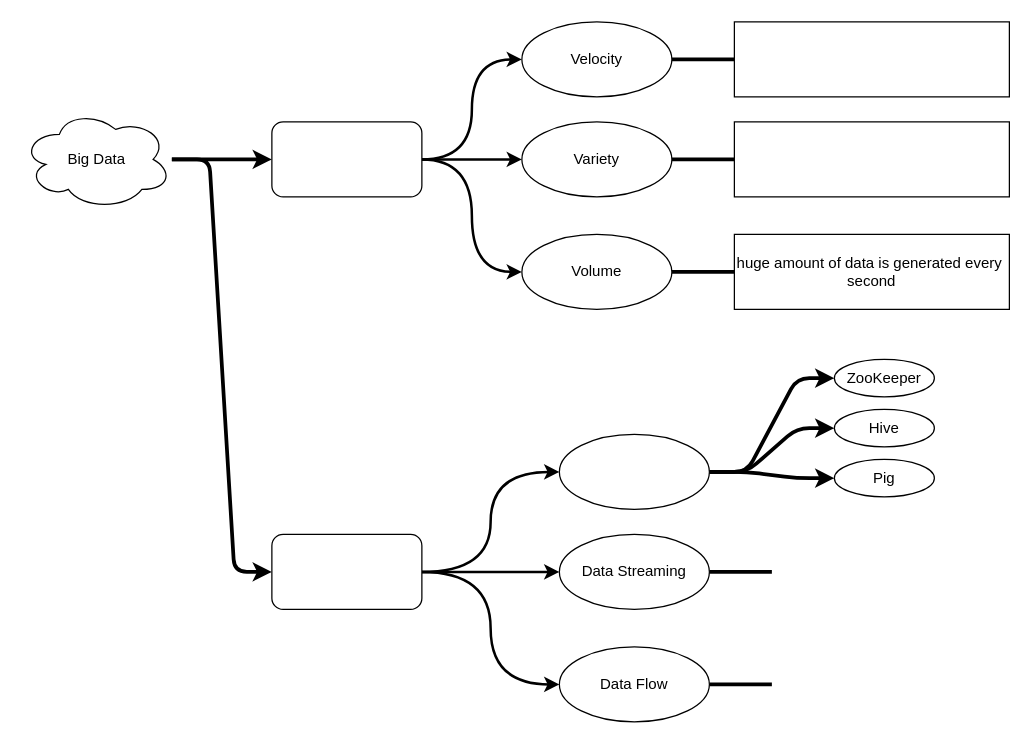
Some shapes in this 1031 by 744 pixel diagram are drawn without their labels. The centre of each missing label's shape, as x and y in pixels:
"3 Operations" goes at [346,571].
"3 Properties" goes at [346,159].
"data are growing and changing in a rapid way" goes at [871,59].
"data come in different and multiple formats" goes at [871,159].
"Hadoop" goes at [633,471].
